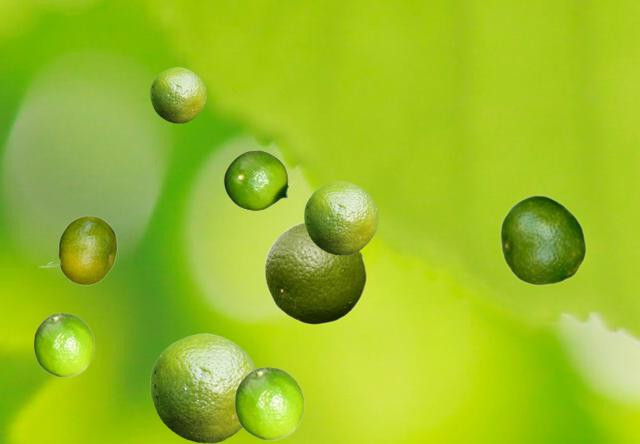calamansi: (150, 333, 256, 442), (264, 222, 366, 324), (499, 194, 586, 285), (38, 215, 116, 284), (304, 181, 377, 254), (234, 366, 304, 439), (223, 150, 295, 210), (33, 312, 94, 376), (150, 67, 205, 122)
